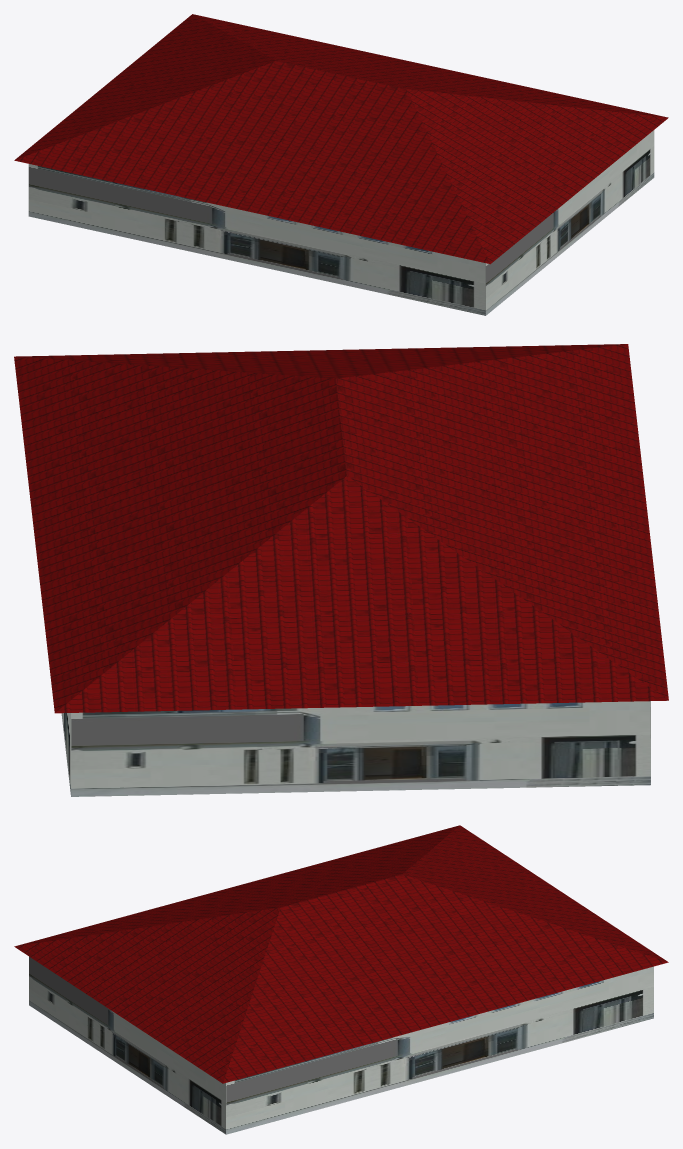
3 renders of one model, top to bottom at view 1: azimuth 30°, elevation 25°; view 2: azimuth 150°, elevation 25°; view 3: azimuth 270°, elevation 25°, orthographic. The views are drawn at different scales.
Parts seen in each view (by area): view 1: CityEngineMaterial_17_m, CityEngineMaterial_11_m; view 2: CityEngineMaterial_17_m, CityEngineMaterial_11_m; view 3: CityEngineMaterial_17_m, CityEngineMaterial_11_m.
Boxes of the visible parts, x1,y1,x2,y2 form: CityEngineMaterial_17_m: (14,14,668,264); CityEngineMaterial_11_m: (28,130,654,315); CityEngineMaterial_17_m: (14,344,668,713); CityEngineMaterial_11_m: (61,701,650,796); CityEngineMaterial_17_m: (14,825,668,1083); CityEngineMaterial_11_m: (29,956,653,1134).
Size of the model in its own units: 53.36 by 11.64 by 57.14.
